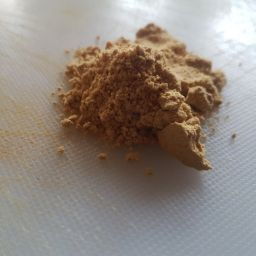Ginger powder: (37, 20, 231, 179), (87, 29, 256, 191), (104, 56, 212, 168)
